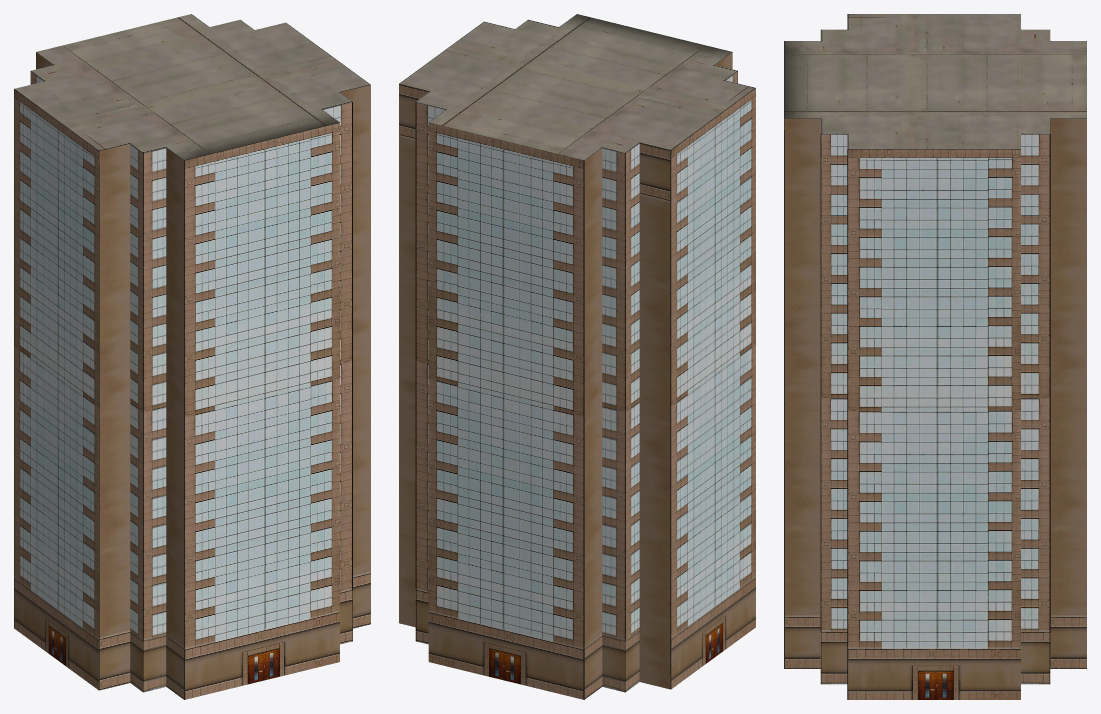
Rendered from round_step_building 1.fbx.
3 views of the same model, side by side, from view 1: azimuth 30°, elevation 25°; view 2: azimuth 150°, elevation 25°; view 3: azimuth 270°, elevation 25° (orthographic). The views are drawn at different scales.
Parts seen in each view (by area): view 1: round_step_building; view 2: round_step_building; view 3: round_step_building.
Boxes of the visible parts, bbox=[...] form: round_step_building: bbox=[14, 14, 370, 699]; round_step_building: bbox=[399, 14, 755, 699]; round_step_building: bbox=[784, 14, 1086, 699].
Size of the model in its own units: 105 by 200 by 99.58.
